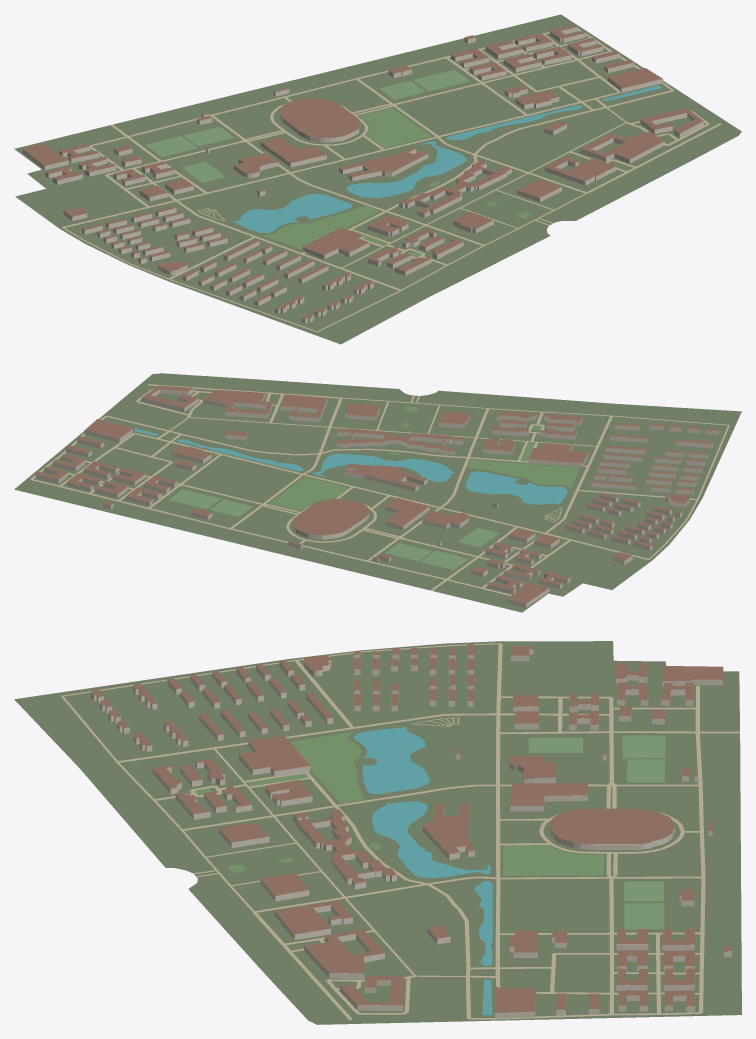
3 views of the same model, one above another, from view 1: azimuth 30°, elevation 25°; view 2: azimuth 150°, elevation 25°; view 3: azimuth 270°, elevation 25° (orthographic). The views are drawn at different scales.
Visible parts, largest first — view 1: campus-ground, environment (×4), roofs, buildings; view 2: campus-ground, environment (×4), roofs, buildings; view 3: campus-ground, environment (×4), roofs, buildings.
Part boxes in pixels (x1,y1,x2,y2): campus-ground: [14, 14, 741, 344]; environment (×4): [62, 28, 721, 332]; roofs: [22, 24, 703, 318]; buildings: [22, 27, 703, 323]; campus-ground: [14, 373, 741, 612]; environment (×4): [30, 384, 729, 595]; roofs: [36, 385, 718, 603]; buildings: [35, 388, 718, 607]; campus-ground: [14, 641, 741, 1024]; environment (×4): [61, 643, 739, 1020]; roofs: [91, 643, 731, 1012]; buildings: [91, 647, 731, 1018].
Size of the model in its own units: 1737 by 12.25 by 1393.
